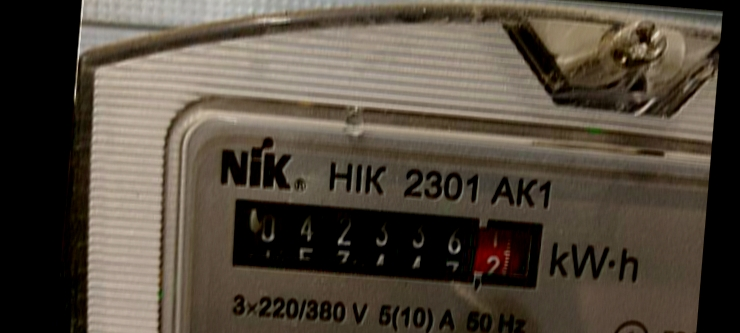0: (258, 211, 280, 246)
1: (489, 224, 503, 251)
2: (334, 213, 358, 249), (484, 255, 502, 277)
3: (372, 215, 392, 249), (410, 219, 430, 252)
4: (299, 210, 318, 244)
6: (445, 224, 468, 259)
screen: (218, 185, 559, 303)
